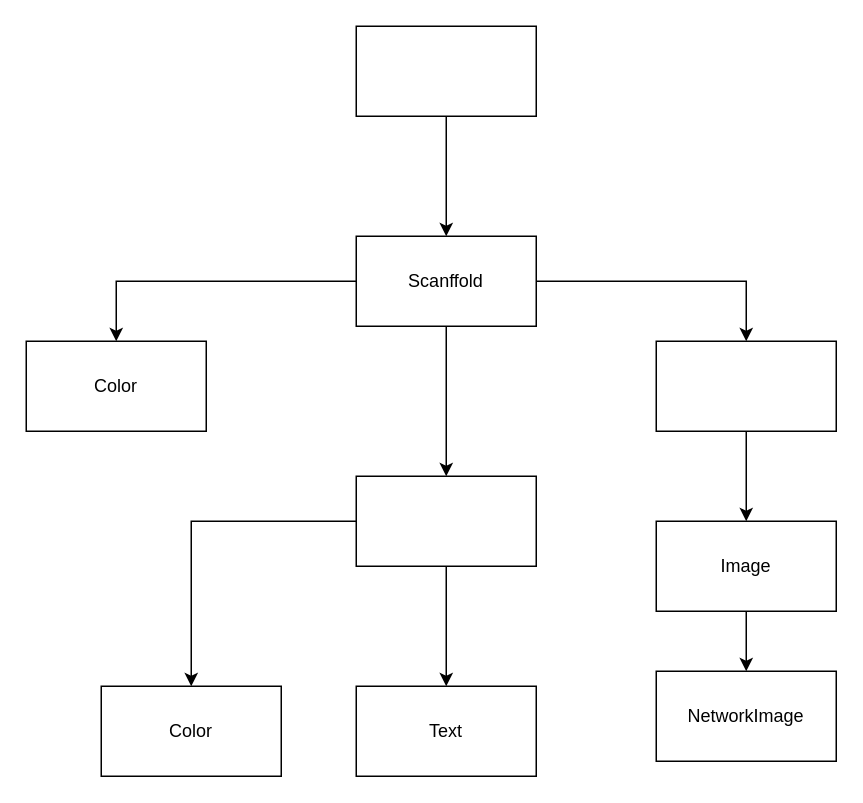
The diagram is 863 pixels wide and 803 high, and some of its shapes have lost their labels. Here are the shapes that lost their labels. From the top down, the box of each, then its label:
(355, 25, 536, 116): MaterialApp
(655, 340, 836, 431): Center
(355, 475, 536, 566): AppBar
